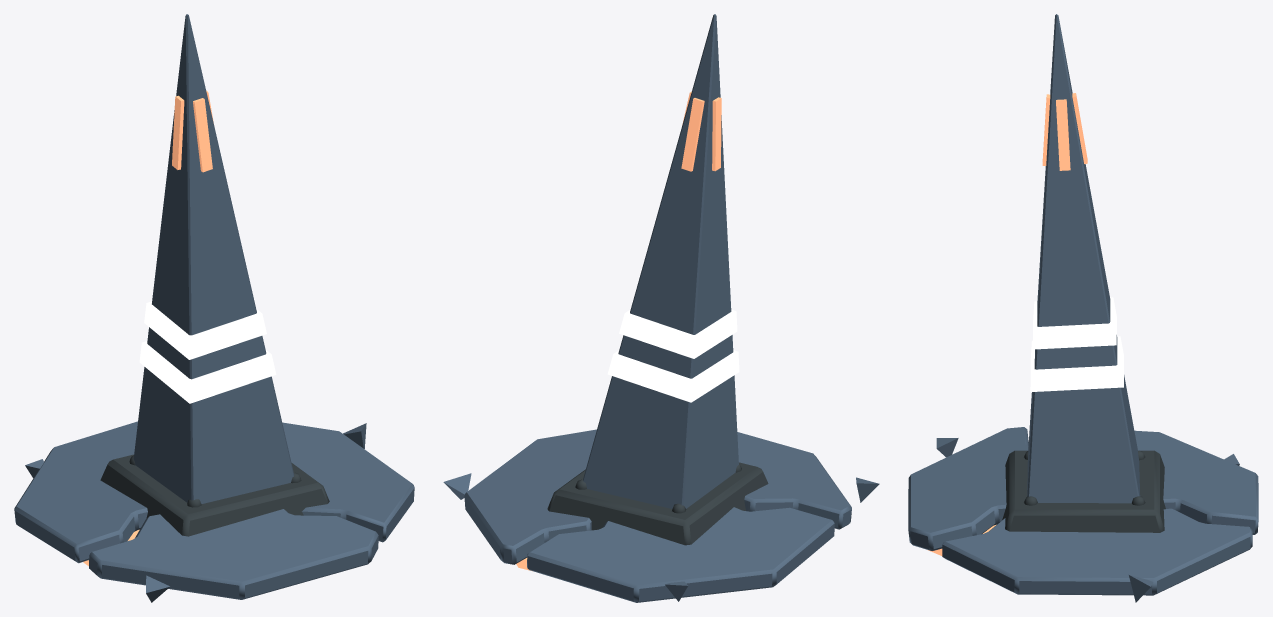
Rendered from spike.glb.
3 views of the same model, side by side, from view 1: azimuth 30°, elevation 25°; view 2: azimuth 150°, elevation 25°; view 3: azimuth 270°, elevation 25° (orthographic). The views are drawn at different scales.
Visible parts, largest first — view 1: body_metal_steel, body_metal_graphite, body_glow_band, body_role_luminous; view 2: body_metal_steel, body_metal_graphite, body_glow_band, body_role_luminous; view 3: body_metal_steel, body_metal_graphite, body_glow_band, body_role_luminous.
Boxes of the visible parts, x1,y1,x2,y2 form: body_metal_steel: (14,14,414,602); body_metal_graphite: (100,454,329,536); body_glow_band: (139,301,276,403); body_role_luminous: (83,90,213,566); body_metal_steel: (443,14,879,602); body_metal_graphite: (547,462,768,545); body_glow_band: (607,309,739,402); body_role_luminous: (516,91,721,571); body_metal_steel: (908,14,1258,602); body_metal_graphite: (1002,450,1165,532); body_glow_band: (1030,297,1123,391); body_role_luminous: (928,93,1087,555).
Bounding box in the file's own units: 1.04 × 1.49 × 0.9691.
